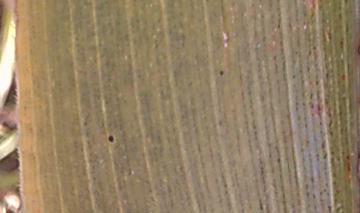tarspot: (325, 111, 335, 130), (105, 132, 116, 143), (345, 160, 352, 174), (344, 20, 350, 33), (338, 36, 344, 49), (356, 41, 360, 57), (327, 29, 332, 41), (340, 72, 346, 81), (308, 91, 314, 100), (316, 102, 321, 112), (290, 73, 297, 80), (218, 69, 224, 77), (275, 156, 281, 164), (314, 78, 319, 87), (344, 154, 351, 160), (356, 150, 360, 160), (329, 130, 334, 138), (311, 44, 316, 50), (276, 23, 281, 29)
